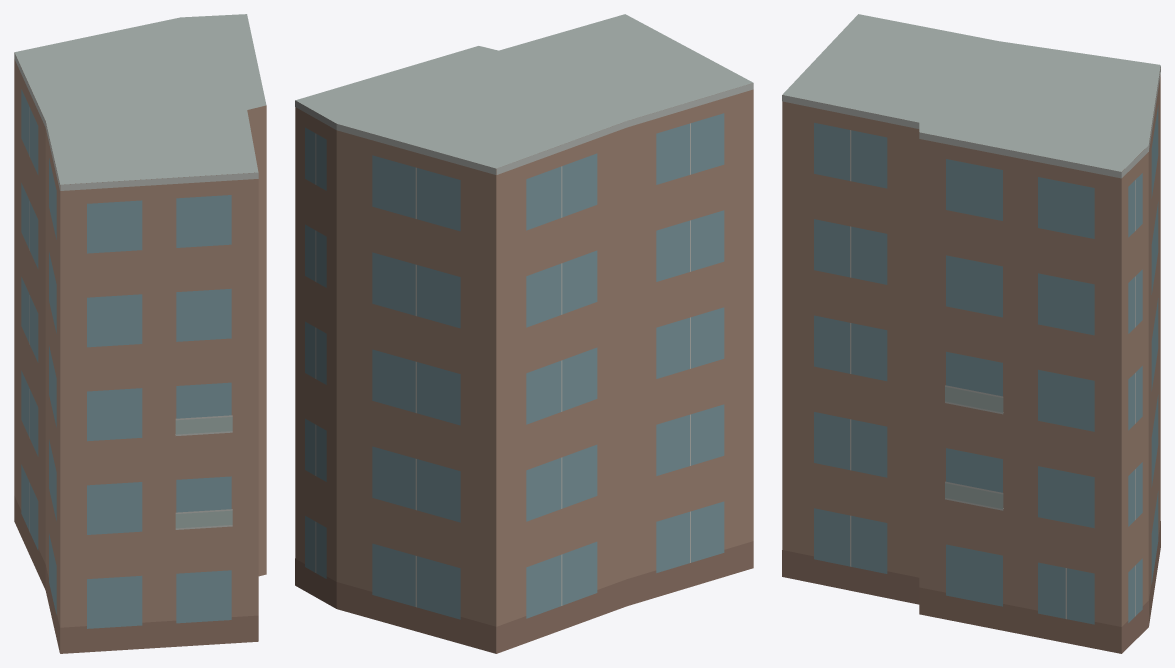
Rendered from survey-upis-33034853.glb.
3 views of the same model, side by side, from view 1: azimuth 30°, elevation 25°; view 2: azimuth 150°, elevation 25°; view 3: azimuth 270°, elevation 25° (orthographic). The views are drawn at different scales.
Parts seen in each view (by area): view 1: survey-upis-33034853.tmp; view 2: survey-upis-33034853.tmp; view 3: survey-upis-33034853.tmp.
Boxes of the visible parts, box(x1,y1,x2,y2) form: survey-upis-33034853.tmp: box(14, 14, 266, 653); survey-upis-33034853.tmp: box(295, 14, 753, 653); survey-upis-33034853.tmp: box(782, 14, 1160, 653).
Size of the model in its own units: 12.66 by 18 by 12.83.
